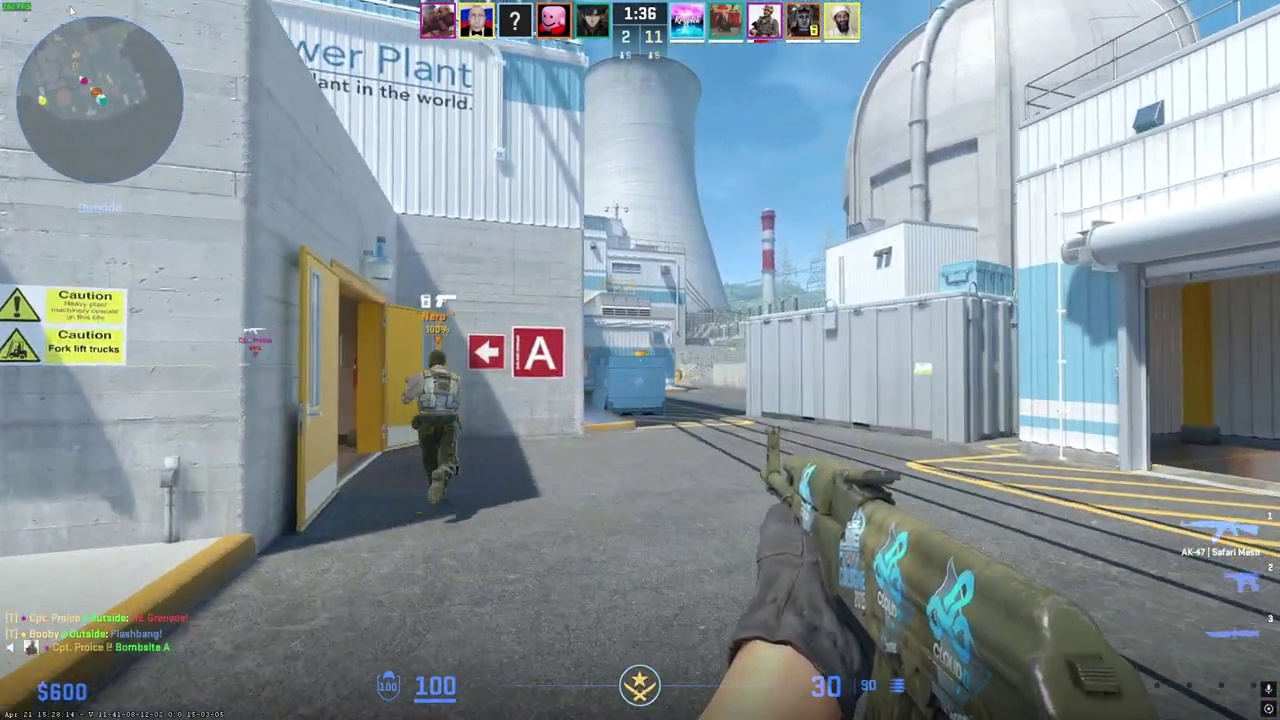Terrorist: (408, 349, 467, 507)
